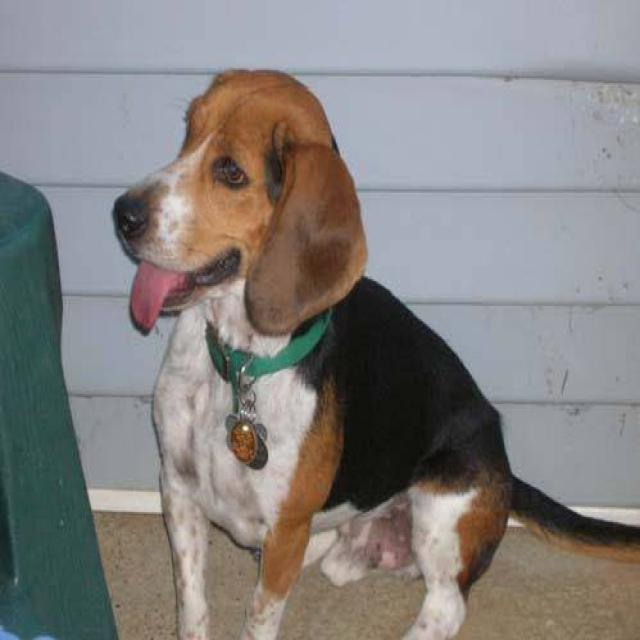dogs: (102, 56, 633, 640)
